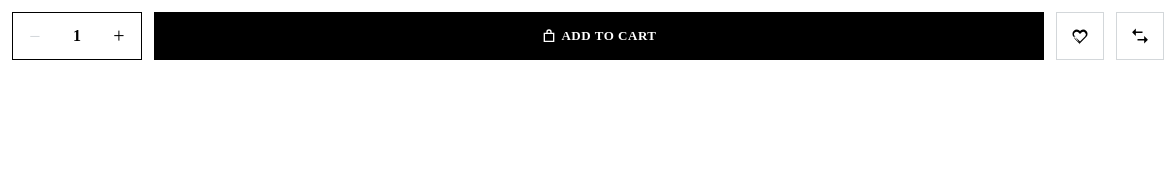
Scenario: ProductActions with a quantity picker (product page) › steps between the backend minimum and maximum, then puts that quantity in the cart
The image size is (1176, 172).
Click the button named "Increase quantity".
click(119, 36)  # box left=97, top=13, right=141, bottom=59
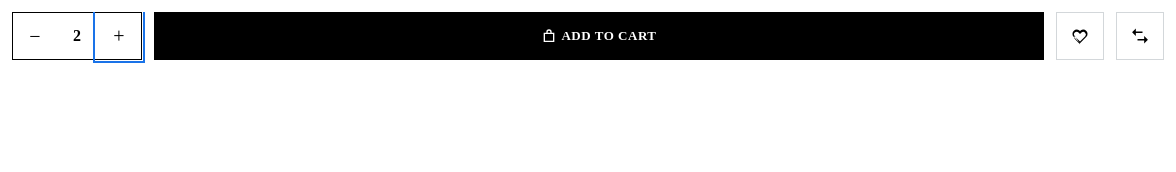
Click the button named "Increase quantity".
click(119, 36)  # box left=97, top=13, right=141, bottom=59
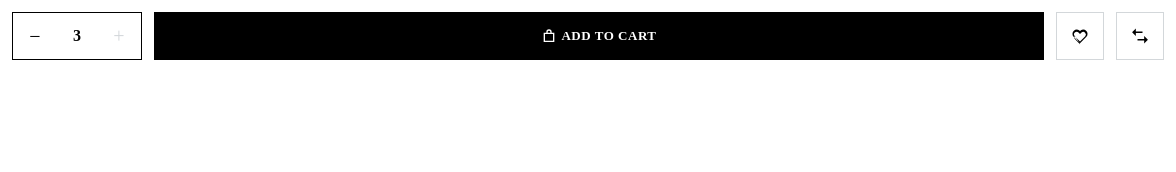
Expected: the text with test id "product-quantity" reads "3", left=73, top=27, right=81, bottom=44
Expected: the button named "Increase quantity" is disabled, left=97, top=13, right=141, bottom=59
Click the button "Add to cart".
click(599, 36)  # box left=154, top=12, right=1044, bottom=60
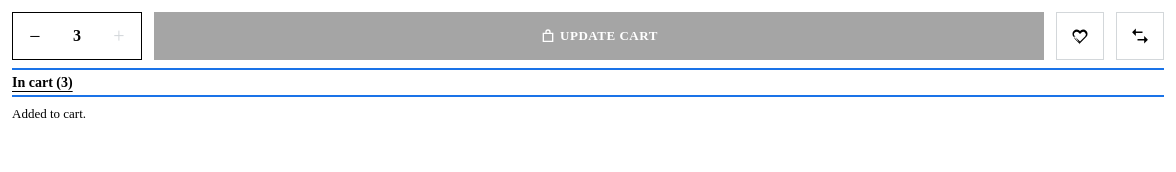
Expected: the button "Update cart" is disabled, left=154, top=12, right=1044, bottom=60
